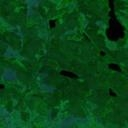alloviz: (104, 1, 127, 42), (58, 69, 79, 79), (106, 62, 123, 74), (46, 17, 58, 29), (107, 87, 118, 97), (99, 49, 107, 57), (1, 82, 7, 91)
